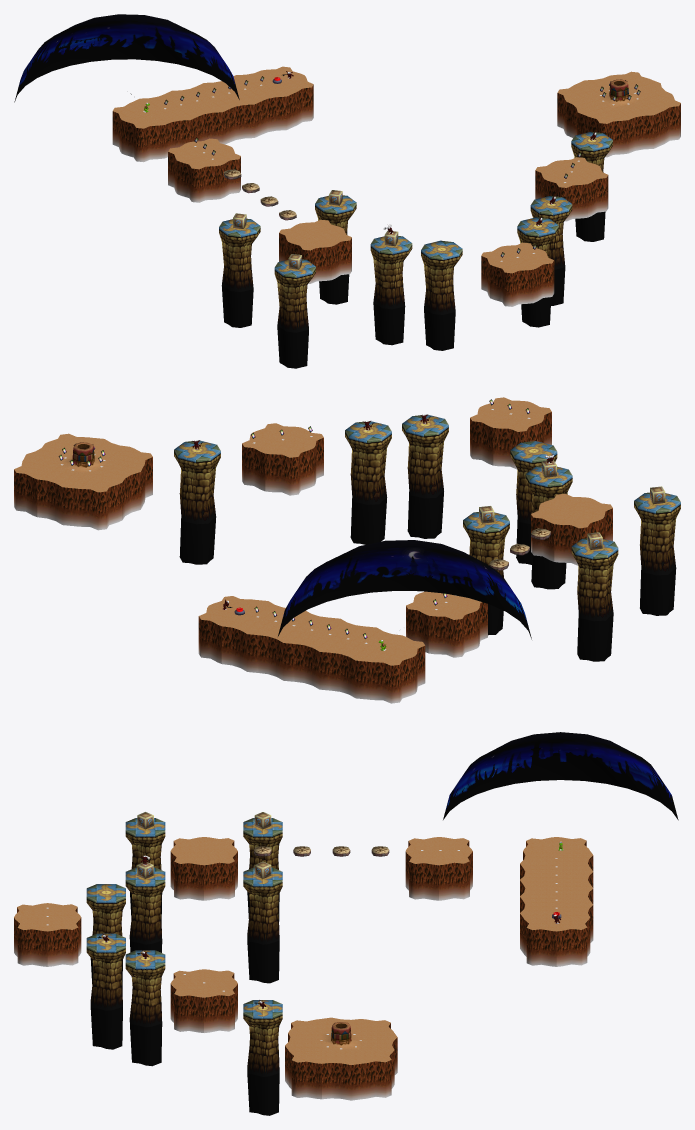
File: croc-mp038_00.gltf
3 views of the same model, one above another, from view 1: azimuth 30°, elevation 25°; view 2: azimuth 150°, elevation 25°; view 3: azimuth 270°, elevation 25° (orthographic). The views are drawn at different scales.
Visible parts, largest first — view 1: map1 (×27), backmodel; view 2: map1 (×48), backmodel; view 3: map1 (×33), backmodel.
Boxes of the visible parts, bbox=[...] form: map1 (×27): bbox=[121, 79, 680, 368]; backmodel: bbox=[14, 14, 239, 102]; map1 (×48): bbox=[14, 407, 680, 703]; backmodel: bbox=[278, 540, 531, 639]; map1 (×33): bbox=[14, 818, 593, 1115]; backmodel: bbox=[443, 732, 678, 820].
Size of the model in its own units: 16.63 by 5.53 by 17.04.
Materials: 99 (88 with a texture image).
